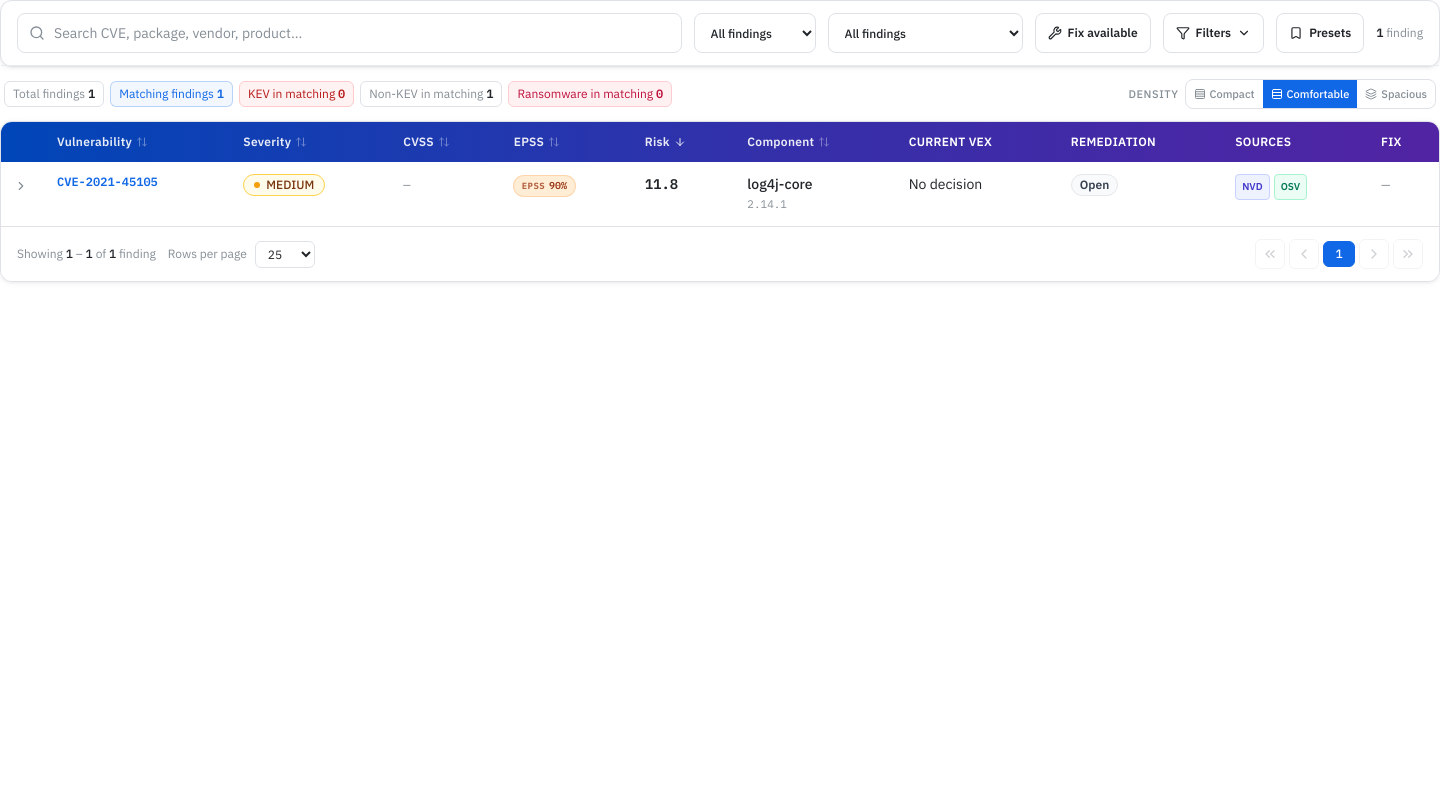
Test: canonical finding evidence › labels estimated risk inputs and preserves historical readability
Click the button named "Expand details" at [21, 186], box x1=9 y1=174 x2=33 y2=198
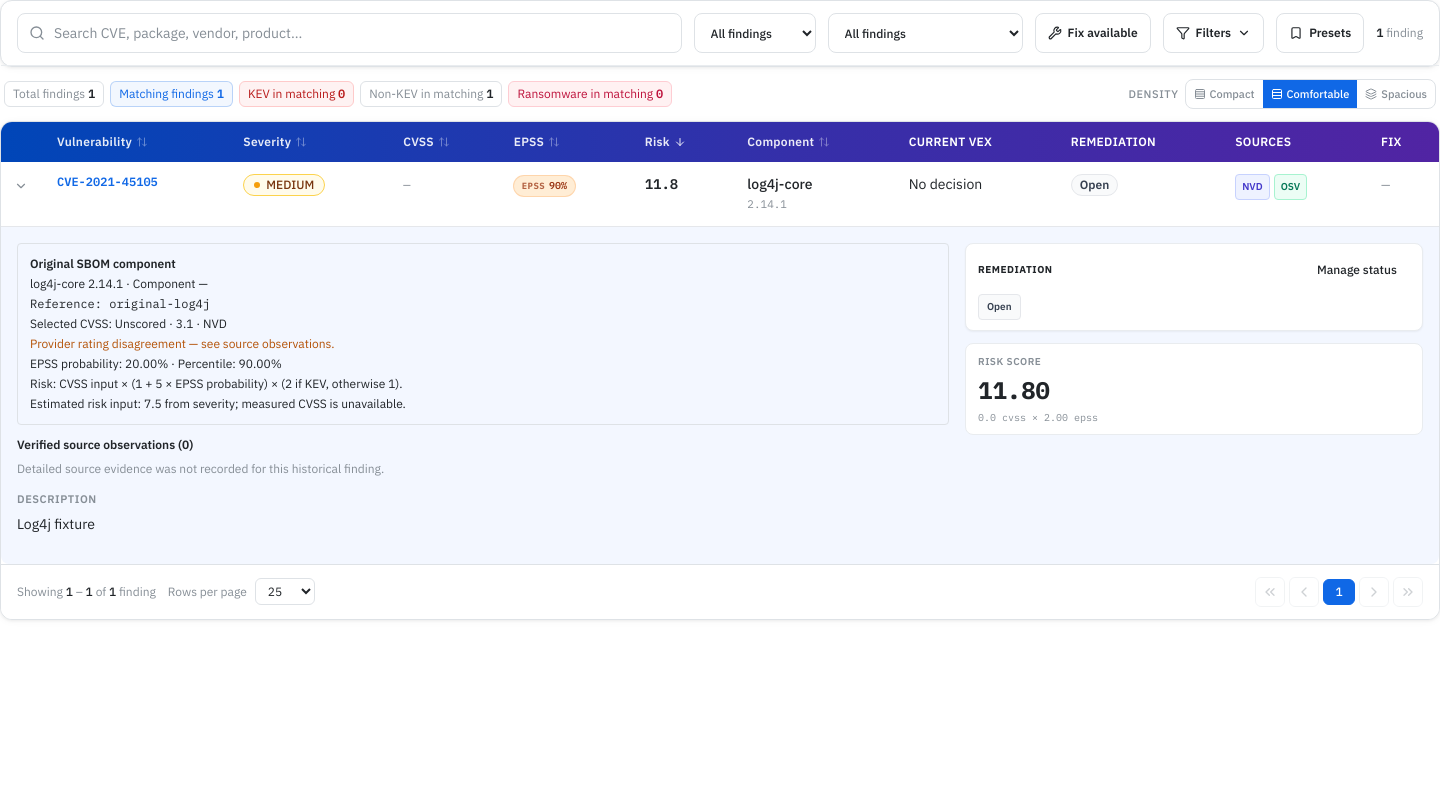
Check: the text "Estimated risk input: 7.5 from severity" is shown, box x1=30 y1=396 x2=406 y2=411
Check: the text "Detailed source evidence was not recorded" is shown, box x1=17 y1=461 x2=384 y2=476
